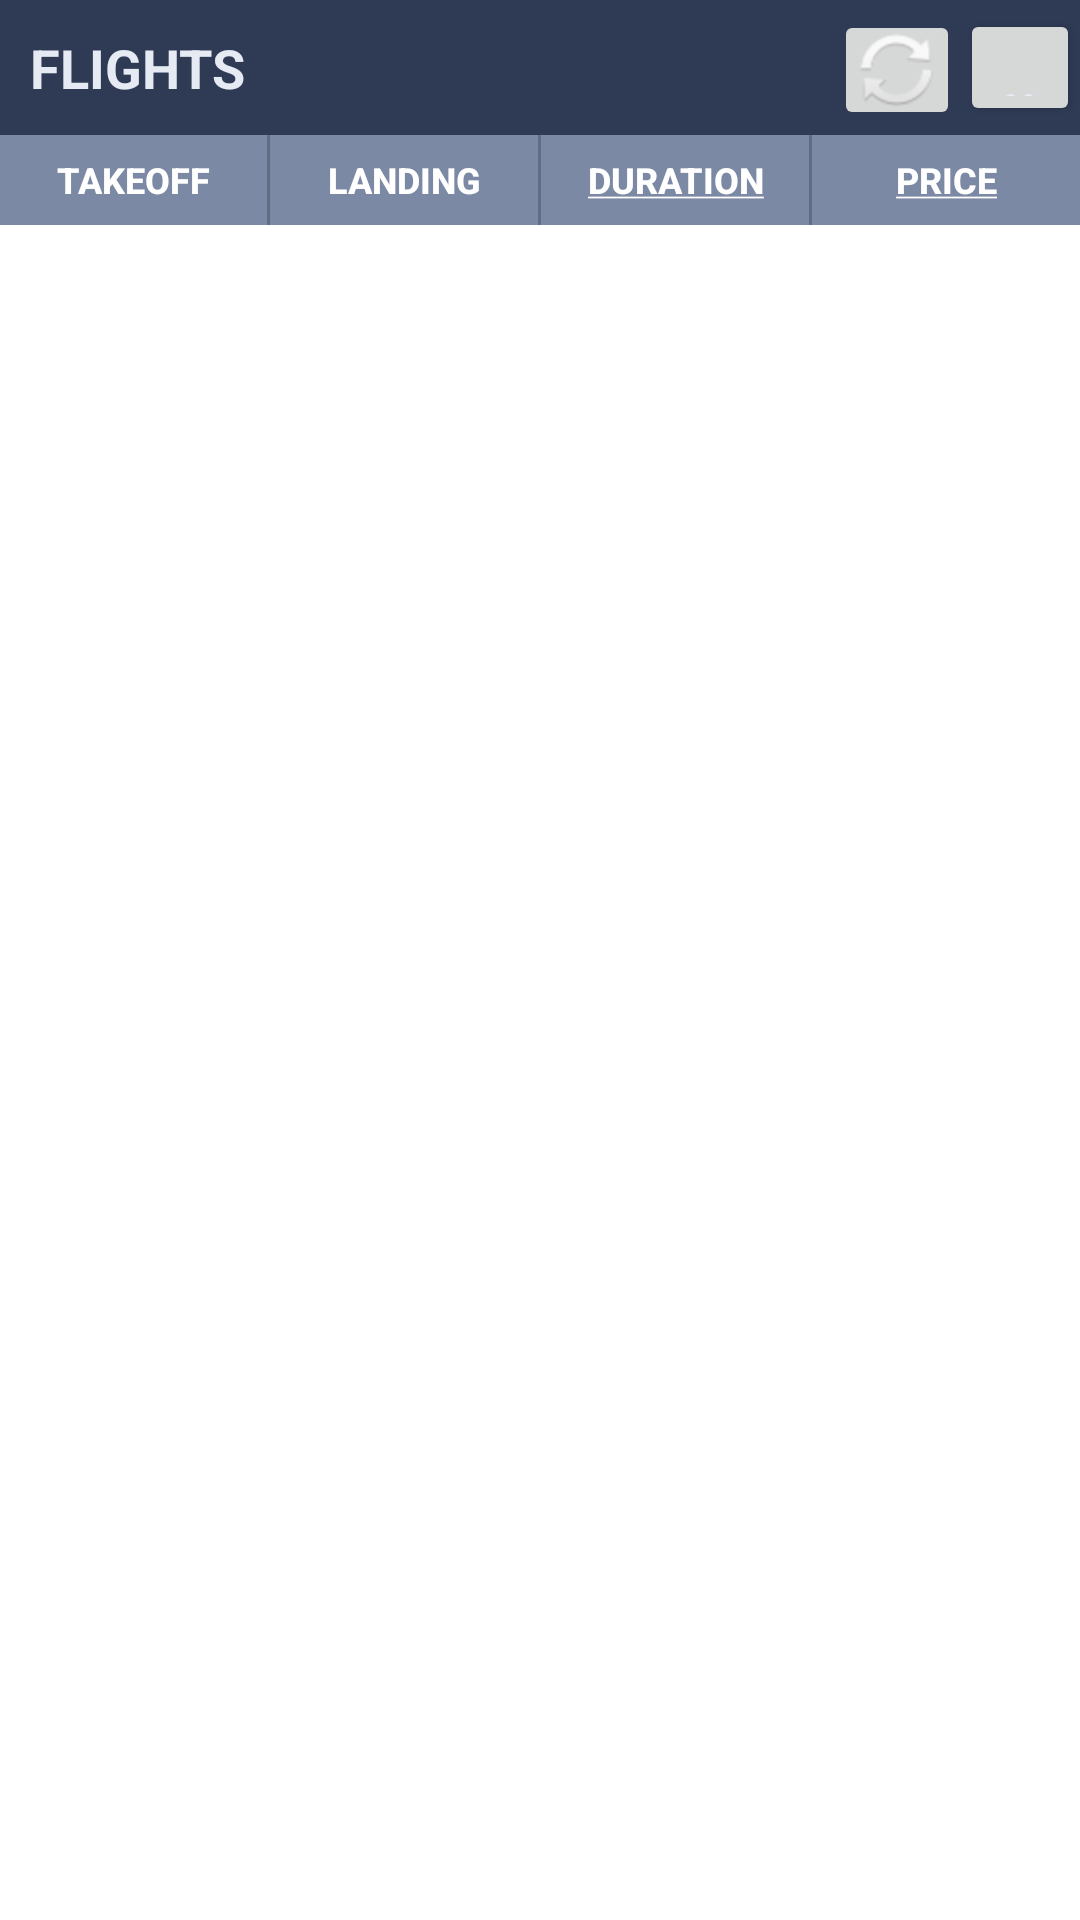

Point at icon controls on the screen. Image size 1080 x 1920, points as [x,y].
Refresh button: [897,70]
